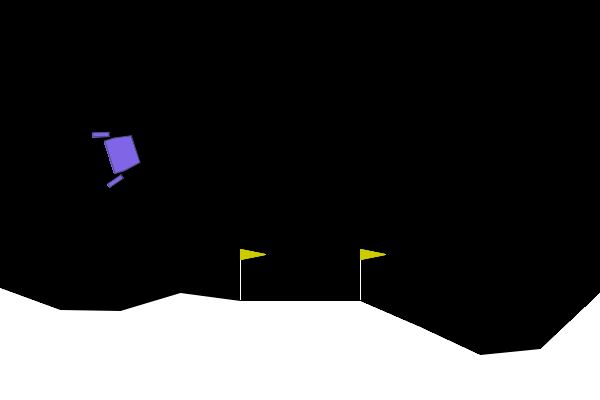lander: (90, 120, 146, 190)
